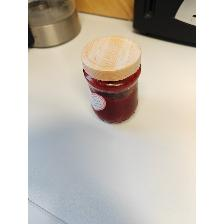Marmelade: (79, 35, 143, 124)
